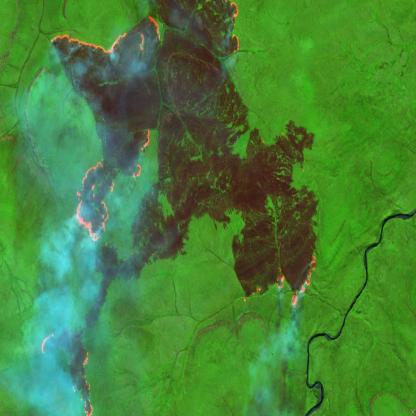fire: (47, 13, 163, 58), (239, 251, 319, 310), (74, 157, 117, 247), (70, 344, 94, 416), (130, 126, 153, 184), (226, 0, 242, 63), (37, 326, 57, 357)
